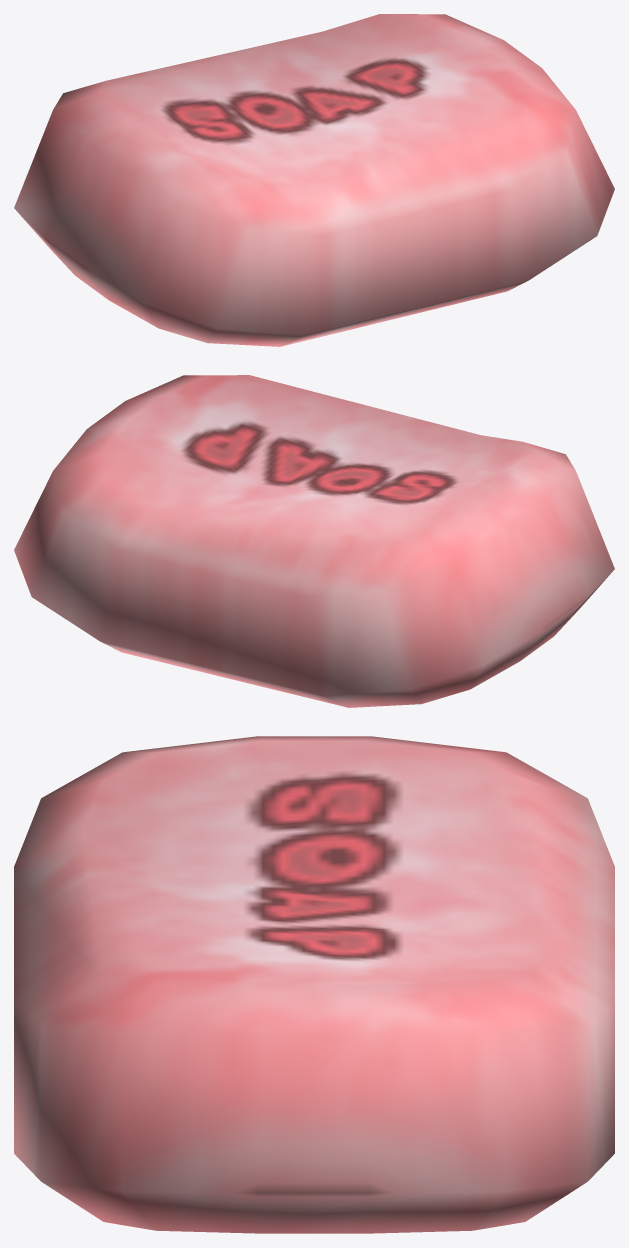
File: Bar_of_Soap.FBX
The picture shows the model from 3 angles, top to bottom: view 1: azimuth 30°, elevation 25°; view 2: azimuth 150°, elevation 25°; view 3: azimuth 270°, elevation 25°; orthographic projection. The views are drawn at different scales.
Visible parts, largest first — view 1: Soap; view 2: Soap; view 3: Soap.
Boxes of the visible parts, x1,y1,x2,y2 form: Soap: (14,14,614,346); Soap: (14,375,614,707); Soap: (14,736,614,1233).
Bounding box in the file's own units: 33.84 × 11.08 × 24.
